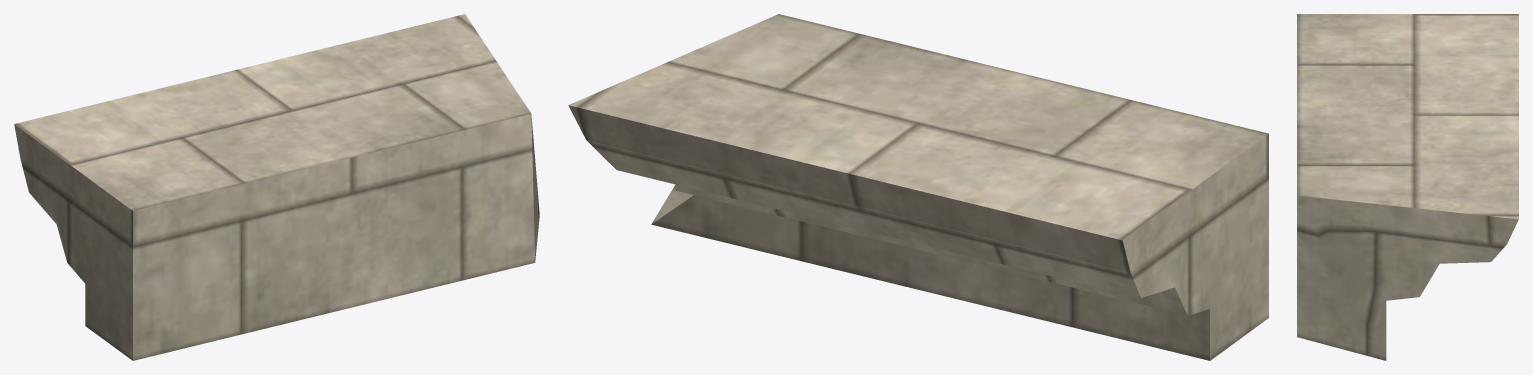
Rendered from debris_nyc_limestone_cornice.glb.
The picture shows the model from 3 angles, left to right: view 1: azimuth 30°, elevation 25°; view 2: azimuth 150°, elevation 25°; view 3: azimuth 270°, elevation 25°; orthographic projection. The views are drawn at different scales.
Visible parts, largest first — view 1: debris_nyc_limestone_cornice; view 2: debris_nyc_limestone_cornice; view 3: debris_nyc_limestone_cornice.
Boxes of the visible parts, x1,y1,x2,y2 form: debris_nyc_limestone_cornice: (14,14,539,360); debris_nyc_limestone_cornice: (568,14,1268,360); debris_nyc_limestone_cornice: (1297,14,1518,360).
Size of the model in its own units: 2.47 by 0.7801 by 1.12.
Materials: 1 (1 with a texture image).
